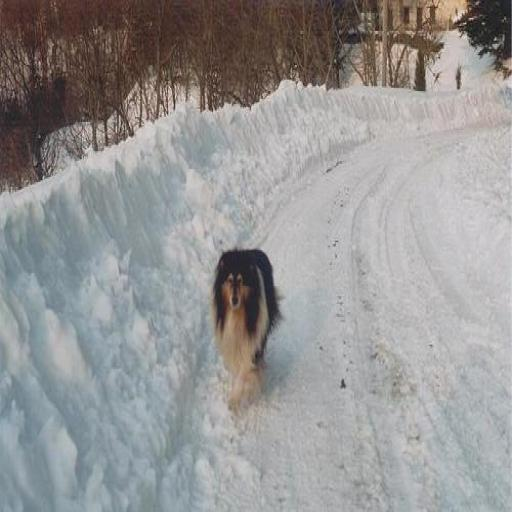dog_face: (214, 247, 258, 317)
